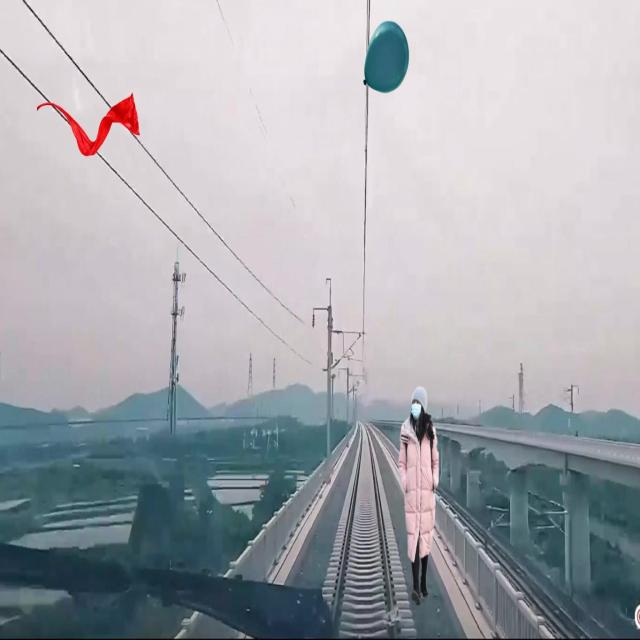balloon: (361, 17, 410, 91)
floating object: (32, 93, 140, 155)
